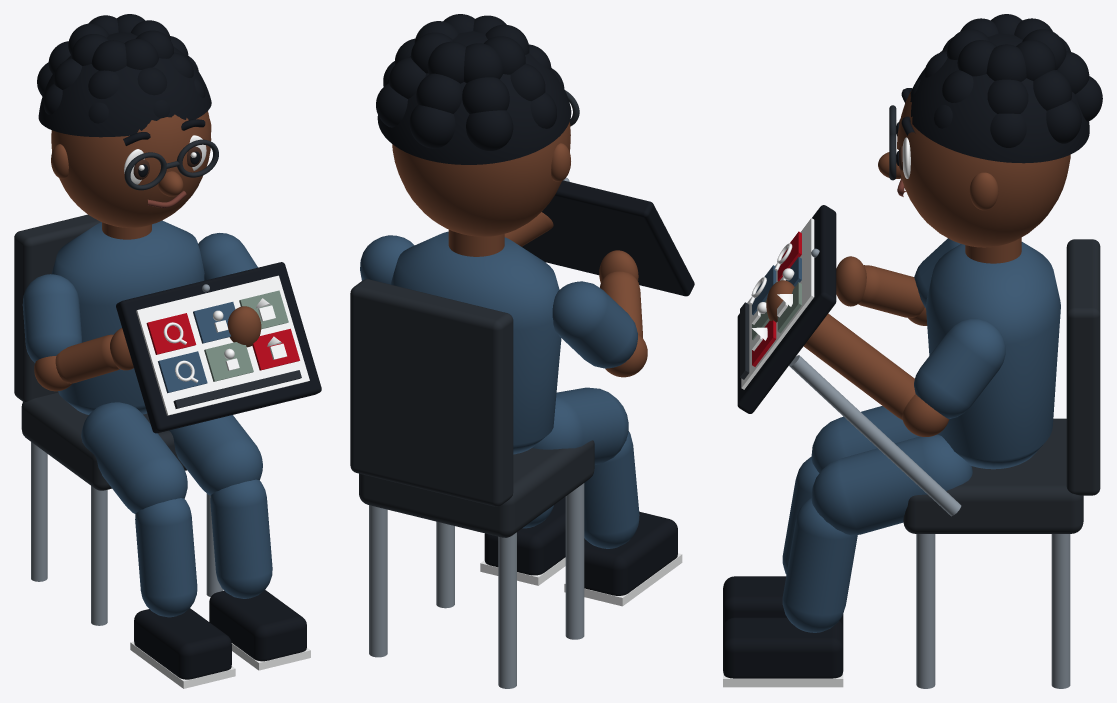
The model's file is P_caa.glb.
3 renders of one model, left to right at view 1: azimuth 30°, elevation 25°; view 2: azimuth 150°, elevation 25°; view 3: azimuth 270°, elevation 25°, orthographic. The views are drawn at different scales.
Parts seen in each view (by area): view 1: torso, pierna (×2), muslo (×2), zapato (×2), cabeza, carcasa, cabello, celda_CAA (×6), interfaz, manga (×2), rizo (×8), pata_silla (×3) (+11 smaller); view 2: respaldo, rizo (×13), torso, carcasa, pata_silla (×4), cabeza, asiento, zapato (×2), manga (×2), cabello, pierna, muslo (+6 smaller); view 3: torso, muslo (×2), cabeza, rizo (×12), asiento, zapato (×2), respaldo, cabello, pierna (×2), antebrazo (×2), manga (×2), pata_silla (×2) (+9 smaller).
Part boxes in pixels (left/top/right/bottom): torso: left=51, top=220, right=204, bottom=414; pierna (×2): left=135, top=479, right=272, bottom=617; muslo (×2): left=81, top=402, right=262, bottom=513; zapato (×2): left=134, top=590, right=306, bottom=679; cabeza: left=51, top=111, right=211, bottom=227; carcasa: left=116, top=262, right=321, bottom=433; cabello: left=38, top=32, right=211, bottom=137; celda_CAA (×6): left=146, top=290, right=299, bottom=393; interfaz: left=136, top=275, right=309, bottom=415; manga (×2): left=22, top=233, right=257, bottom=362; rizo (×8): left=54, top=23, right=173, bottom=98; pata_silla (×3): left=31, top=442, right=223, bottom=625; respaldo: left=350, top=279, right=513, bottom=506; rizo (×13): left=376, top=24, right=556, bottom=150; torso: left=390, top=231, right=561, bottom=454; carcasa: left=522, top=180, right=694, bottom=296; pata_silla (×4): left=369, top=483, right=584, bottom=688; cabeza: left=392, top=122, right=570, bottom=236; asiento: left=359, top=440, right=594, bottom=537; zapato (×2): left=484, top=497, right=677, bottom=595; manga (×2): left=360, top=235, right=637, bottom=368; cabello: left=377, top=31, right=571, bottom=164; pierna: left=584, top=431, right=639, bottom=548; muslo: left=532, top=387, right=628, bottom=464; torso: left=926, top=242, right=1060, bottom=469; muslo (×2): left=811, top=406, right=972, bottom=535; cabeza: left=897, top=91, right=1070, bottom=247; rizo (×12): left=942, top=29, right=1102, bottom=147; asiento: left=903, top=418, right=1083, bottom=533; zapato (×2): left=723, top=576, right=843, bottom=678; respaldo: left=1066, top=239, right=1100, bottom=495; cabello: left=910, top=33, right=1089, bottom=163; pierna (×2): left=782, top=456, right=857, bottom=632; antebrazo (×2): left=803, top=265, right=924, bottom=419; manga (×2): left=914, top=238, right=1005, bottom=418; pata_silla (×2): left=916, top=534, right=1070, bottom=688.
Size of the model in its own units: 0.83 by 1.83 by 1.01.
